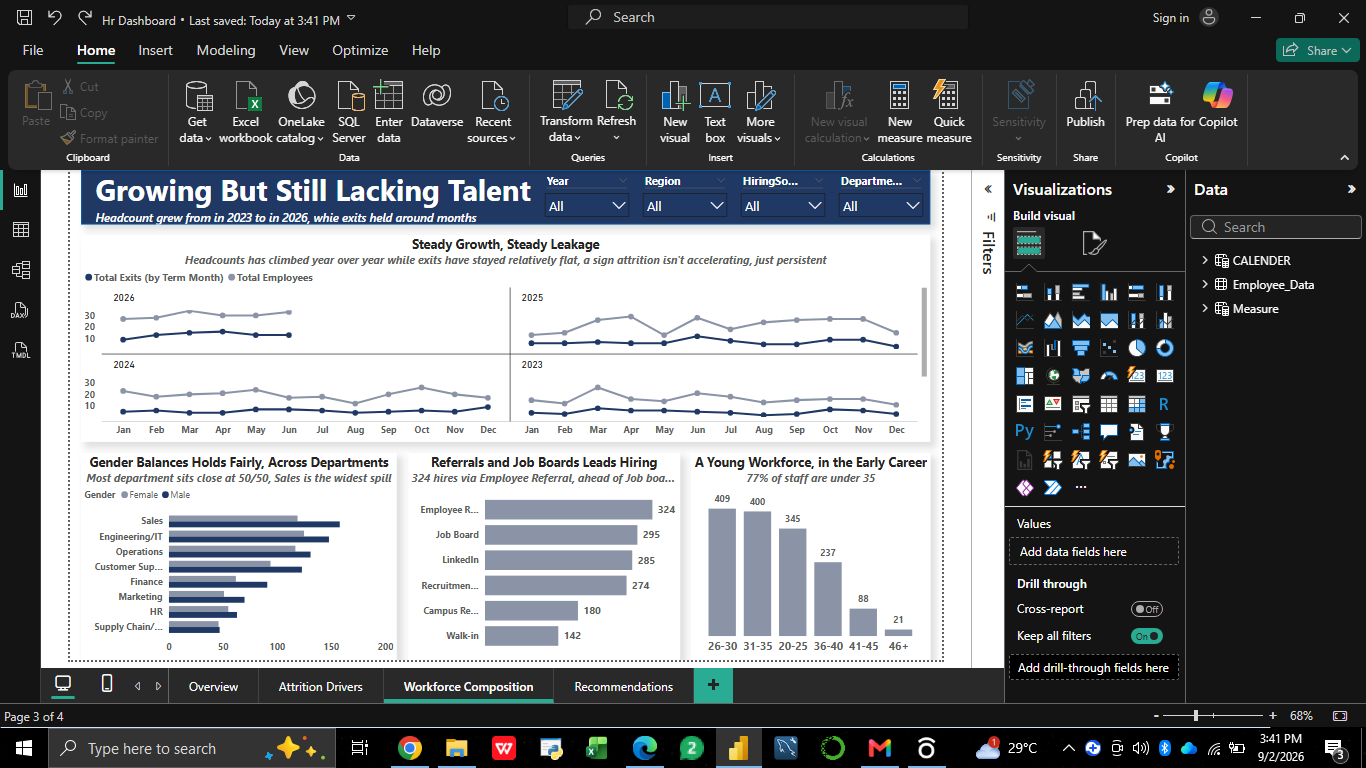

This screenshot's page, from the dashboard's own definition file:
{"tool":"powerbi","page":{"name":"Workforce Composition","canvas":[1280,720],"ordinal":2},"visuals":[{"type":"shape","box":[16,0,1248,80],"z":0},{"type":"slicer","fields":{"Values":["CALENDER.Year"]},"box":[688,0,144,80],"z":1000},{"type":"slicer","fields":{"Values":["Employee_Data.Region"]},"box":[832,0,144,80],"z":2000},{"type":"slicer","fields":{"Values":["Employee_Data.Department"]},"box":[1120,0,144,80],"z":3000},{"type":"slicer","fields":{"Values":["Employee_Data.HiringSource"]},"box":[976,0,144,80],"z":4000},{"type":"lineChart","title":"Steady Growth, Steady Leakage","fields":{"Category":["CALENDER.Month"],"Y":["Measure.Total Exits (by Term Month)","Measure.Total Employees"],"Rows":["CALENDER.Year"]},"box":[16,96,1248,304],"z":5000},{"type":"barChart","title":"Referrals and Job Boards Leads Hiring","fields":{"Category":["Employee_Data.HiringSource"],"Y":["CALENDER.Total Employees"]},"box":[496,416,400,304],"z":6000},{"type":"clusteredBarChart","title":"Gender Balances Holds Fairly, Across Departments","fields":{"Category":["Employee_Data.Department"],"Y":["CALENDER.Total Employees"],"Series":["Employee_Data.Gender"]},"box":[16,416,464,304],"z":7000},{"type":"columnChart","title":"A Young Workforce, in the Early Career","fields":{"Category":["Employee_Data.AgeBand"],"Y":["CALENDER.Total Employees"]},"box":[912,416,352,304],"z":8000},{"type":"textbox","title":"Growing But Still Lacking Talent","box":[32,0,656,80],"z":9000}]}

Visuals, with their boxes on the page's 1280x720 design canvas (x1, y1, x2, y2). These are canvas units, not pixel positions in the 1366x768 screenshot, which may show the page scaled, cropped or inside an application window:
shape: [16,0,1264,80]
slicer - CALENDER.Year: [688,0,832,80]
slicer - Employee_Data.Region: [832,0,976,80]
slicer - Employee_Data.Department: [1120,0,1264,80]
slicer - Employee_Data.HiringSource: [976,0,1120,80]
"Steady Growth, Steady Leakage" lineChart: [16,96,1264,400]
"Referrals and Job Boards Leads Hiring" barChart: [496,416,896,720]
"Gender Balances Holds Fairly, Across Departments" clusteredBarChart: [16,416,480,720]
"A Young Workforce, in the Early Career" columnChart: [912,416,1264,720]
"Growing But Still Lacking Talent" textbox: [32,0,688,80]
